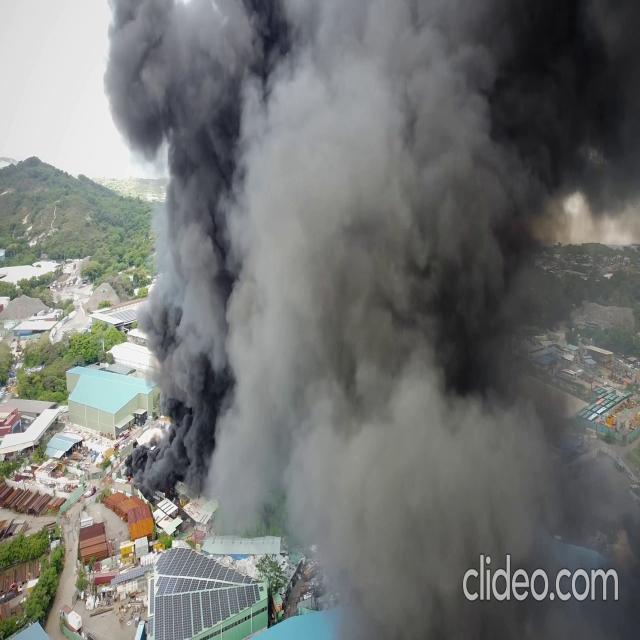Smoke: (102, 0, 640, 527)
